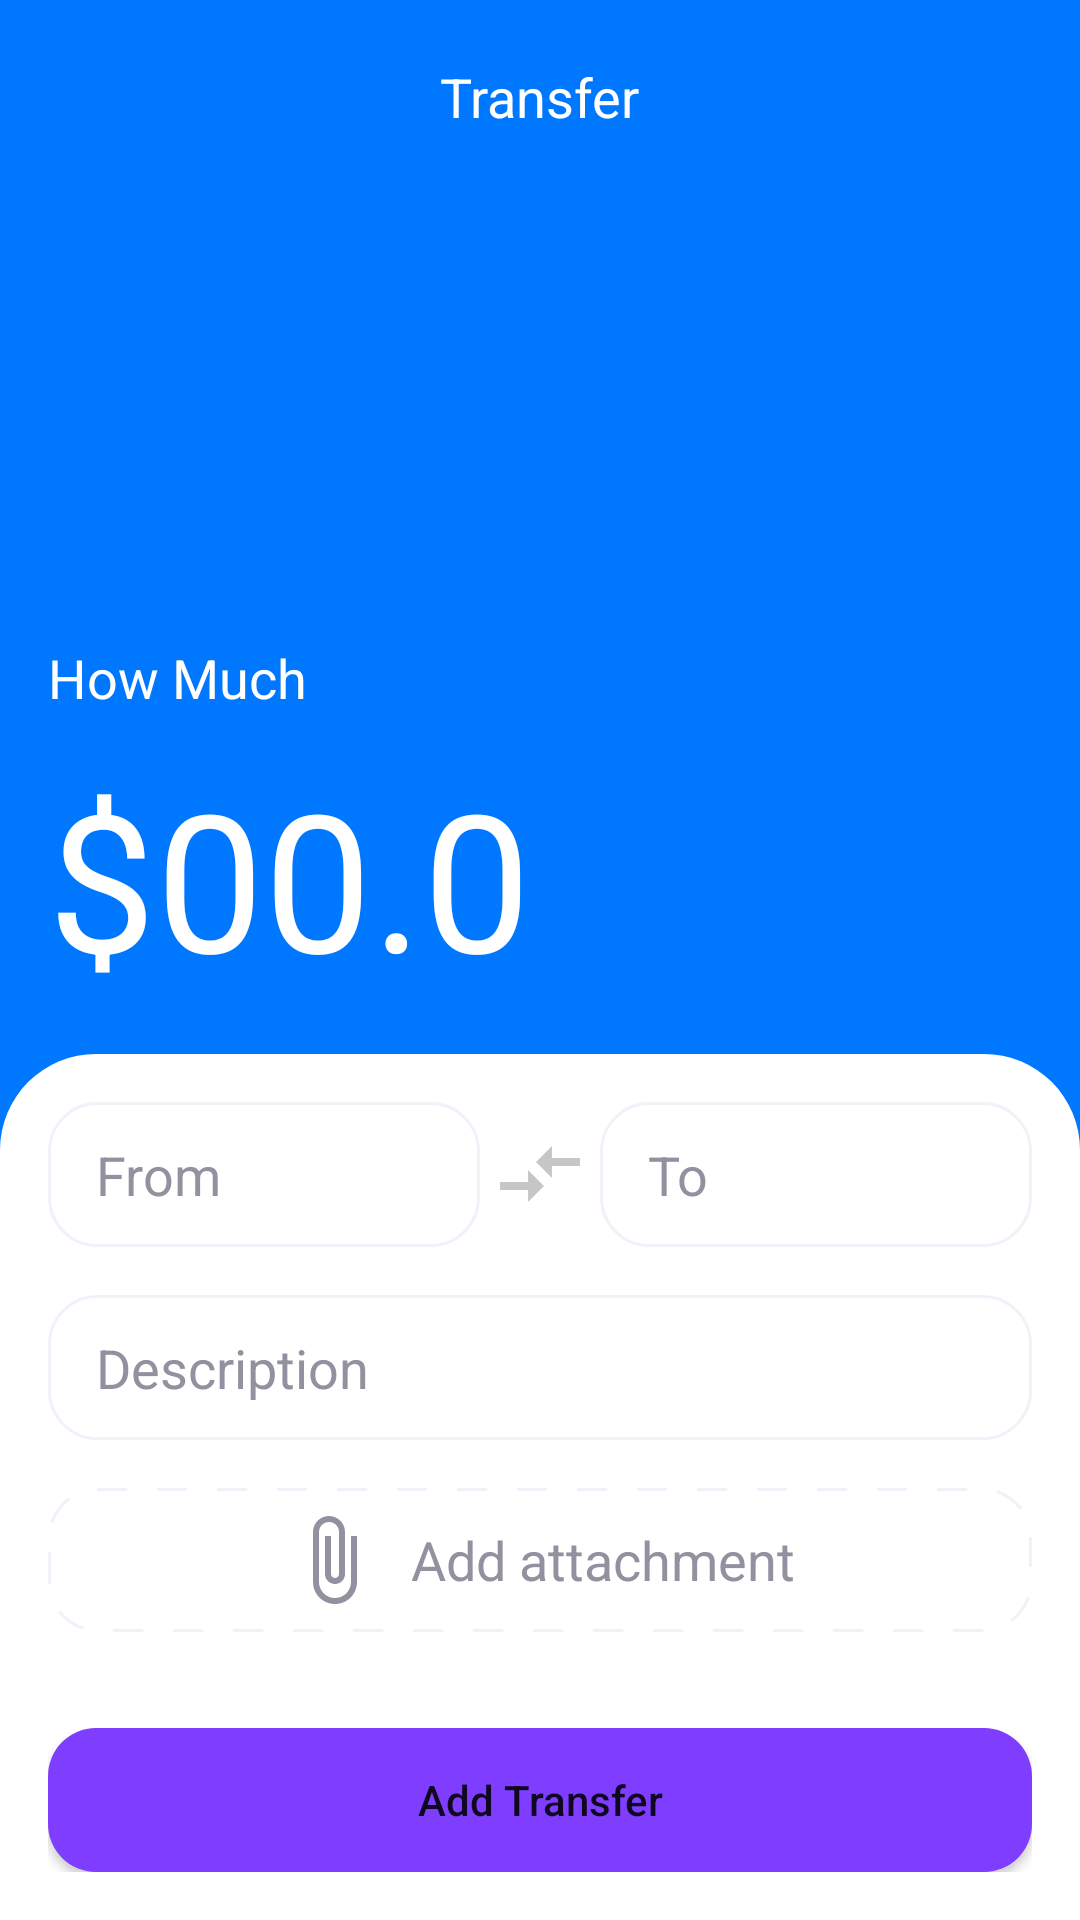

Screen size 1080 x 1920. Icon name, then its center in pixels as (x=x, y=y):
attach file: (x=335, y=1560)
transactions: (x=540, y=1174)
